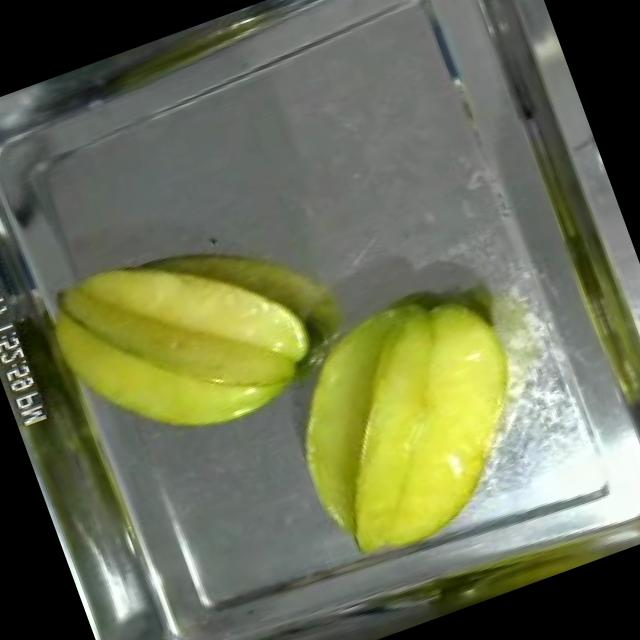fruit: (245, 258, 572, 586), (22, 196, 342, 485)
